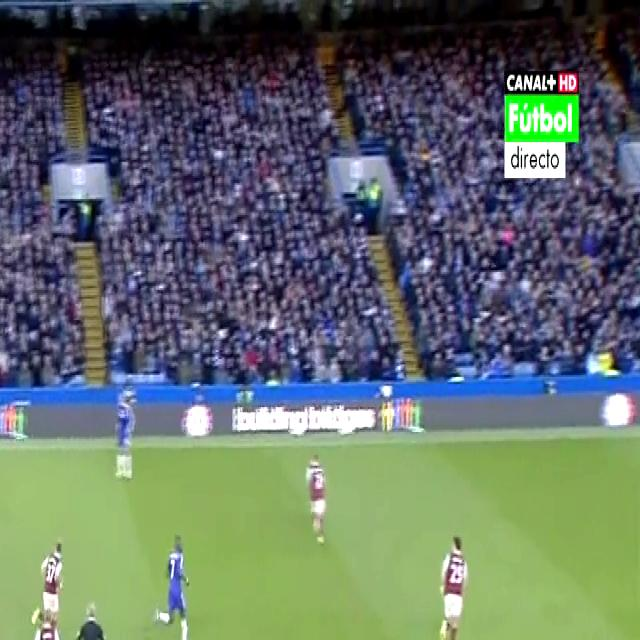referee: (71, 597, 108, 640)
soccer-player: (154, 524, 200, 640), (434, 522, 477, 640), (35, 528, 69, 640), (299, 443, 332, 554), (110, 385, 140, 491), (27, 610, 67, 640), (600, 636, 640, 640)
